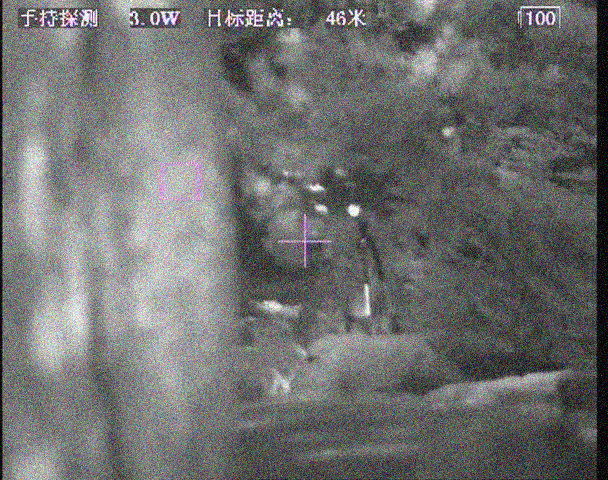my: (347, 203, 361, 218)
